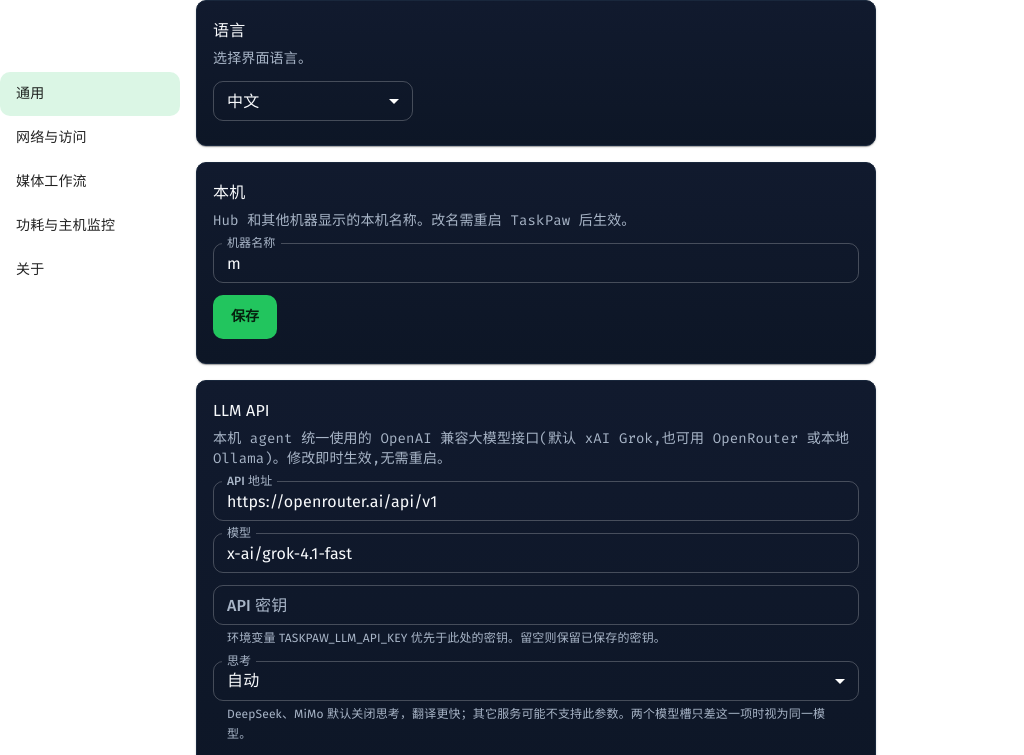
Test: Settings LLM API card › T-U3 Test connection sends the current form values (blank key omitted) and shows model + latency
Check: the field labelled "模型" is shown, box left=213, top=533, right=859, bottom=573
Replace the text in the field labelled "API 地址" with "http://127.0.0.1:11434/v1" at (536, 501), box left=213, top=481, right=859, bottom=521
(page scrolled)
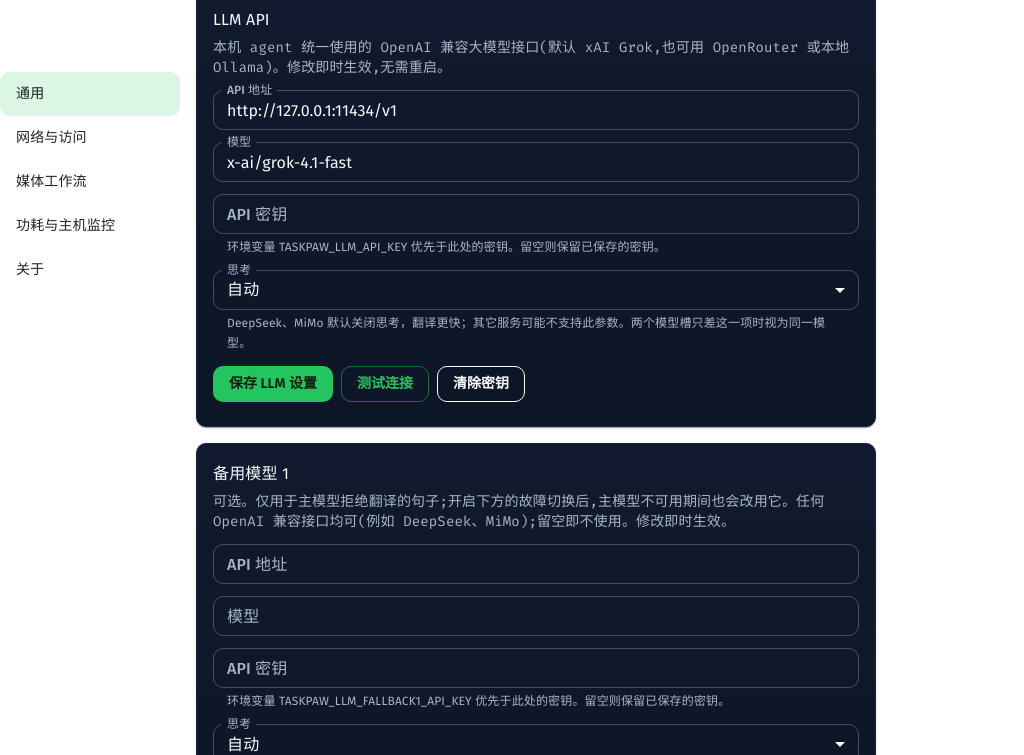
Click the button "测试连接" at (385, 384), box left=341, top=366, right=429, bottom=402
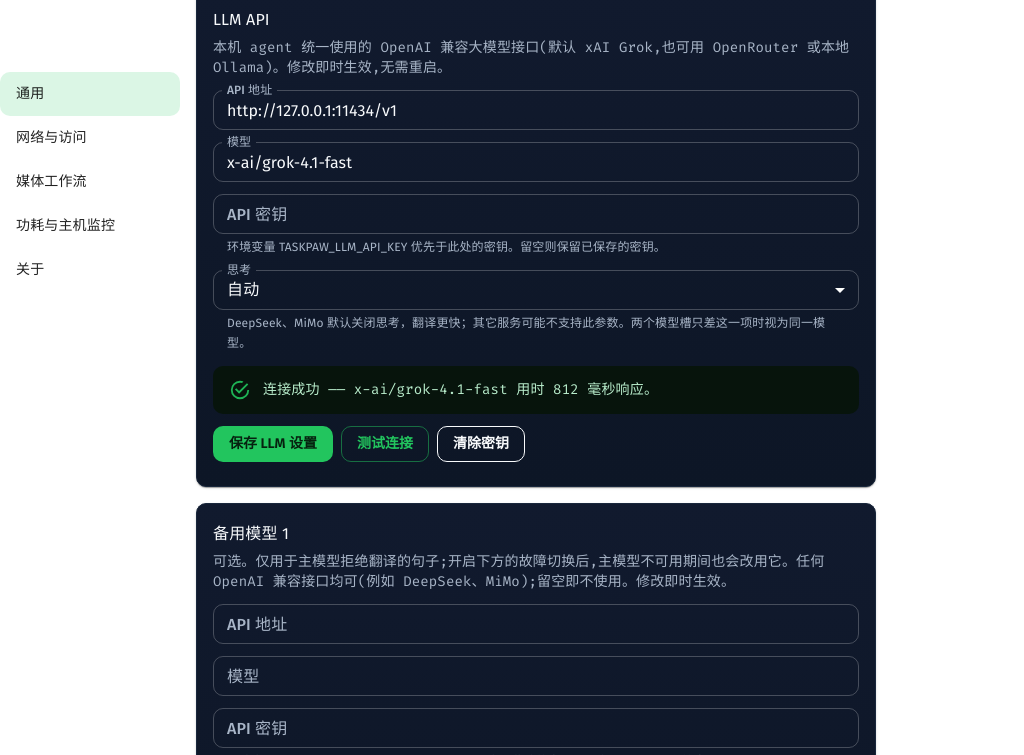
Check: the message shows "x-ai/grok-4.1-fast", box left=263, top=380, right=658, bottom=399
Check: the message shows "812", box left=263, top=380, right=658, bottom=399
